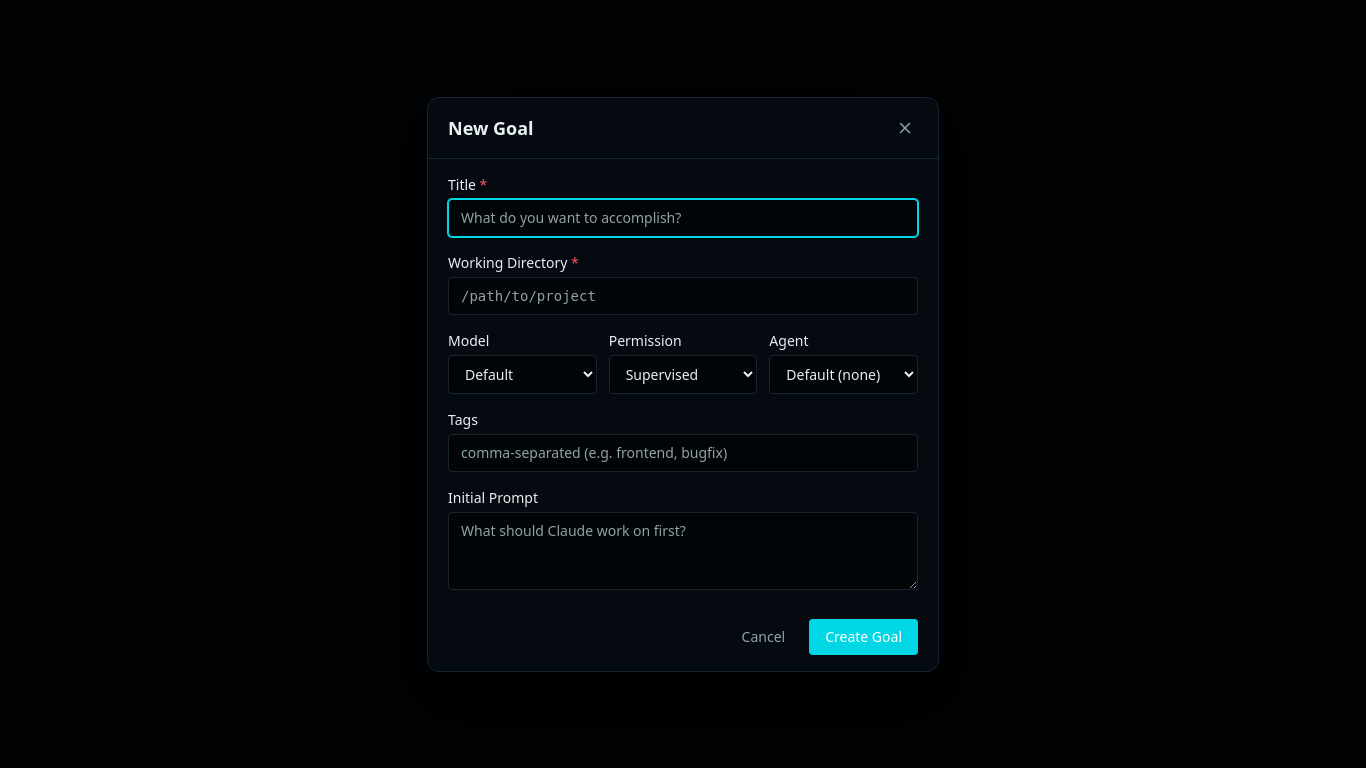
Test: NewGoalModal › handles API error with rollback
Type "Failing goal" into the field with placeholder "What do you want to accomplish?" at (683, 218), box [448,198,918,236]
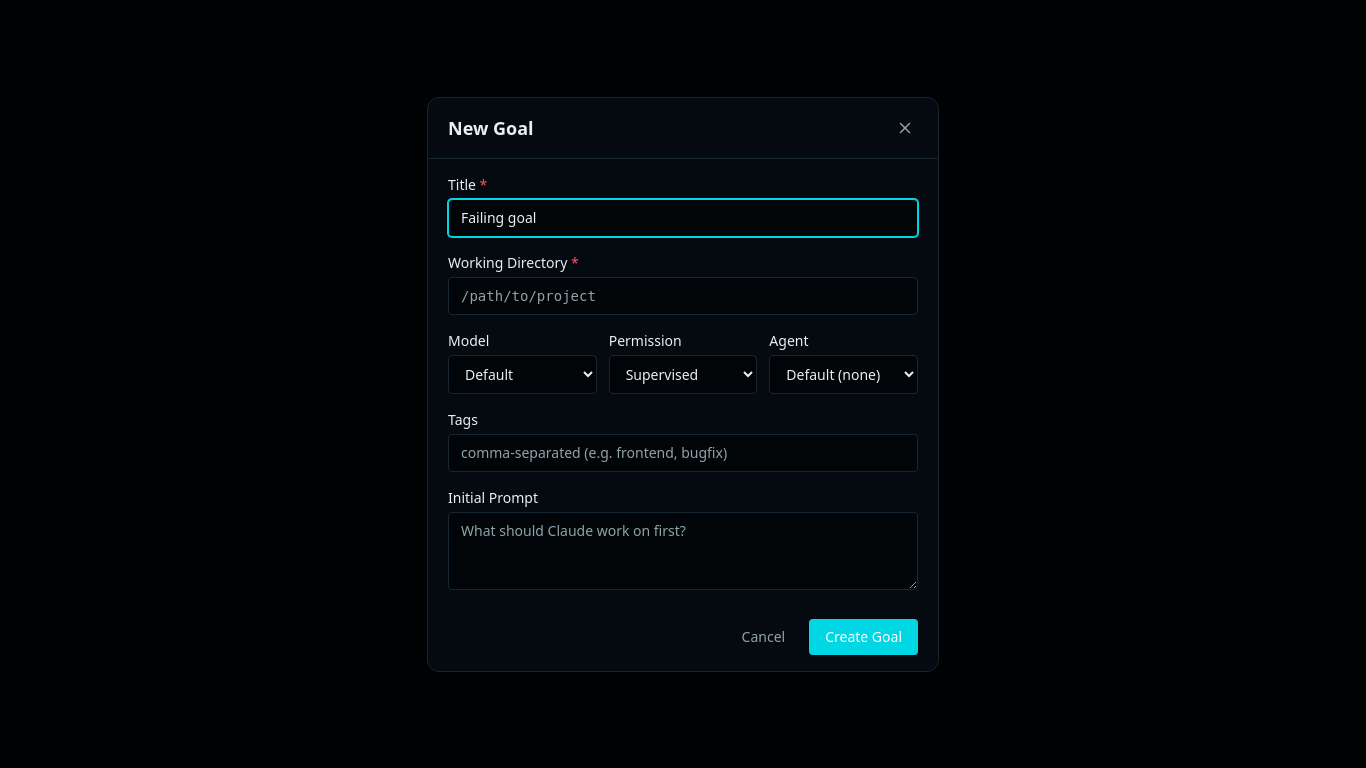
Type "/test" into the field with placeholder "/path/to/project" at (683, 296), box [448,276,918,314]
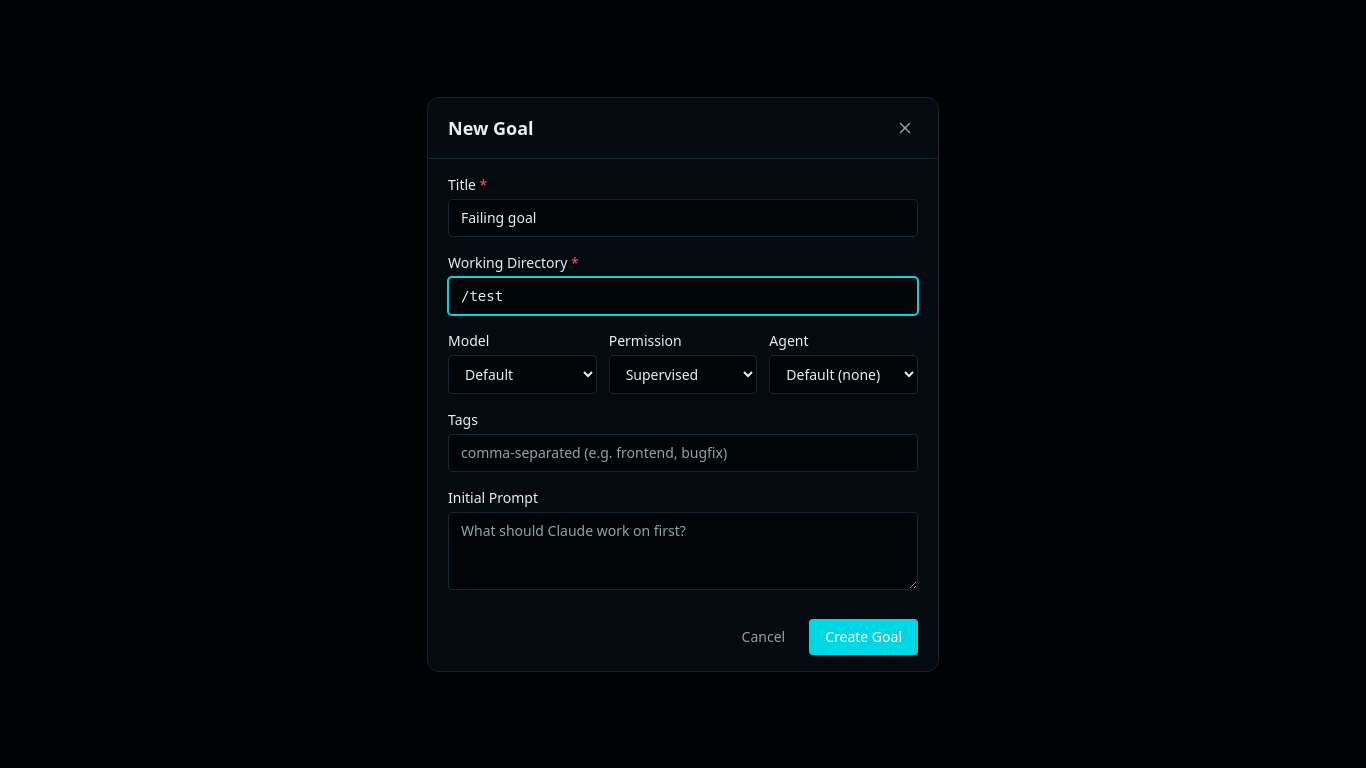
Click the button "Create Goal" at (864, 636), box [809,618,918,654]
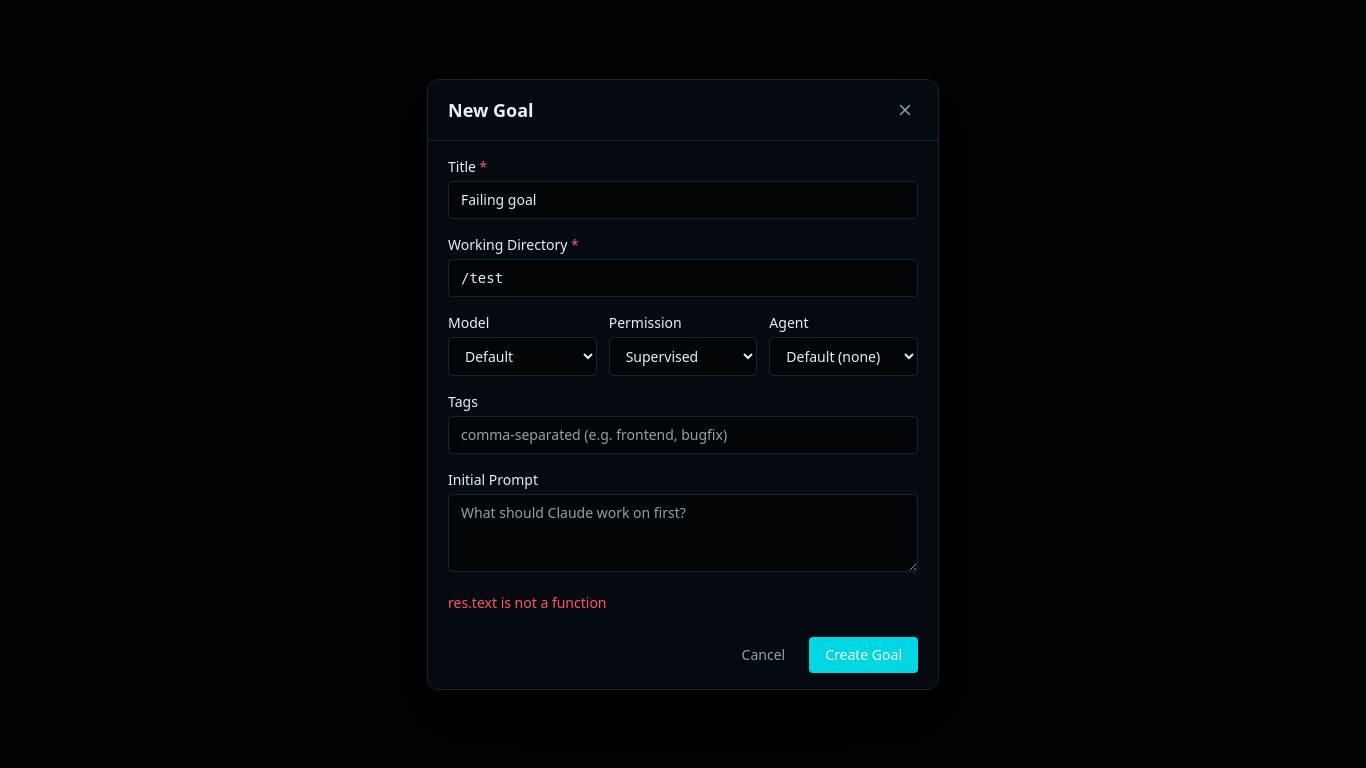
expect the message "res.text is not a function" is shown: met, box [448,592,606,612]
